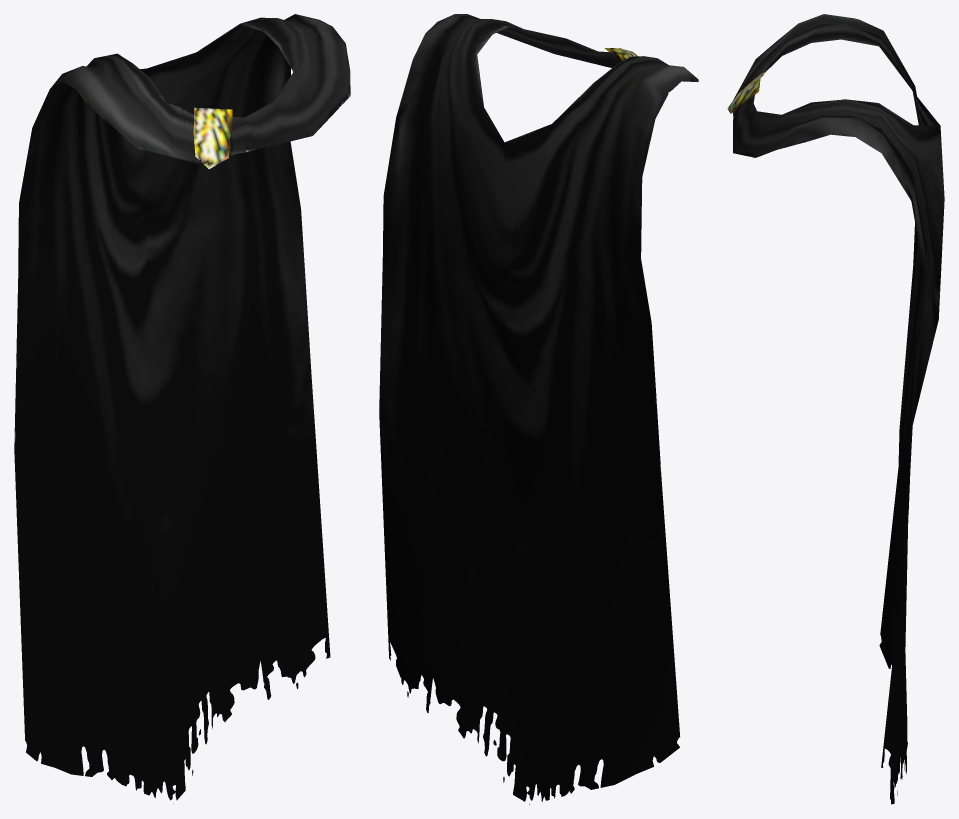
Rendered from cape_hd_long.dae.
The picture shows the model from 3 angles, left to right: view 1: azimuth 30°, elevation 25°; view 2: azimuth 150°, elevation 25°; view 3: azimuth 270°, elevation 25°; orthographic projection. The views are drawn at different scales.
Visible parts, largest first — view 1: cape_long; view 2: cape_long; view 3: cape_long.
Part boxes in pixels (<box>): cape_long: <box>14,14,350,800</box>; cape_long: <box>379,14,698,804</box>; cape_long: <box>727,14,944,804</box>.
Bounding box in the file's own units: 1.18 × 2.89 × 0.7659.
